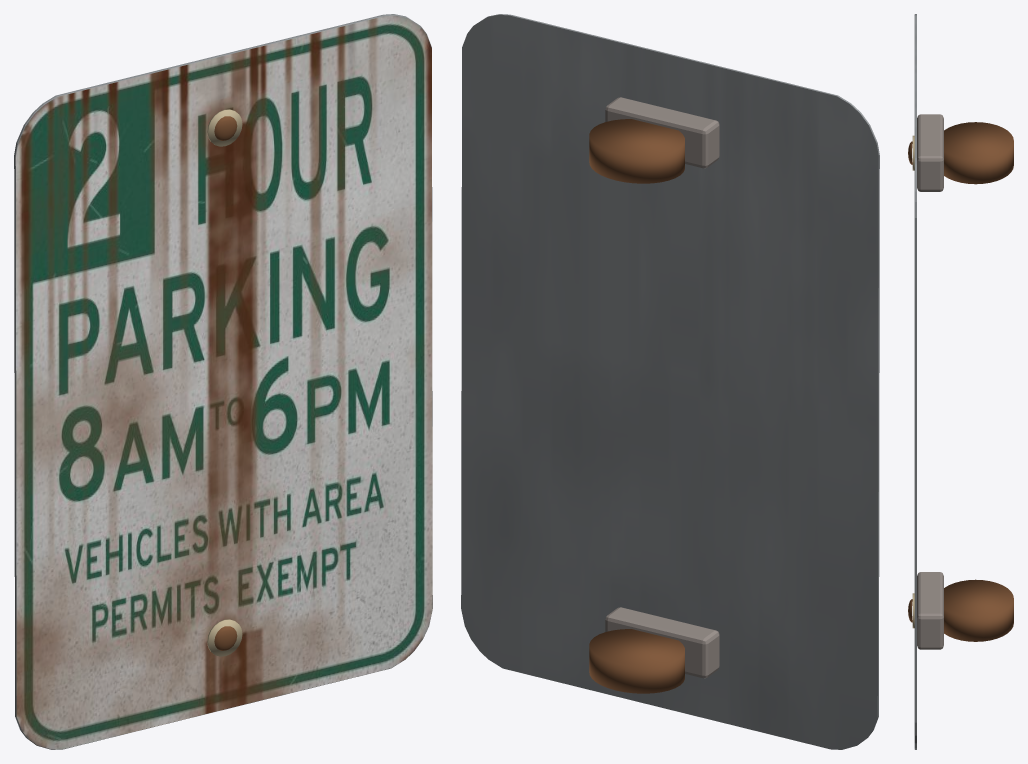
Rendered from permitParking-v1-rusty.glb.
3 renders of one model, left to right at view 1: azimuth 30°, elevation 25°; view 2: azimuth 150°, elevation 25°; view 3: azimuth 270°, elevation 25°, orthographic. The views are drawn at different scales.
Visible parts, largest first — view 1: permitParking-v1-rusty; view 2: permitParking-v1-rusty; view 3: permitParking-v1-rusty.
Boxes of the visible parts, x1,y1,x2,y2 form: permitParking-v1-rusty: [14, 14, 432, 749]; permitParking-v1-rusty: [461, 14, 879, 749]; permitParking-v1-rusty: [908, 14, 1013, 749].
Size of the model in its own units: 0.3556 by 0.5335 by 0.0871.
Materials: 1 (1 with a texture image).
